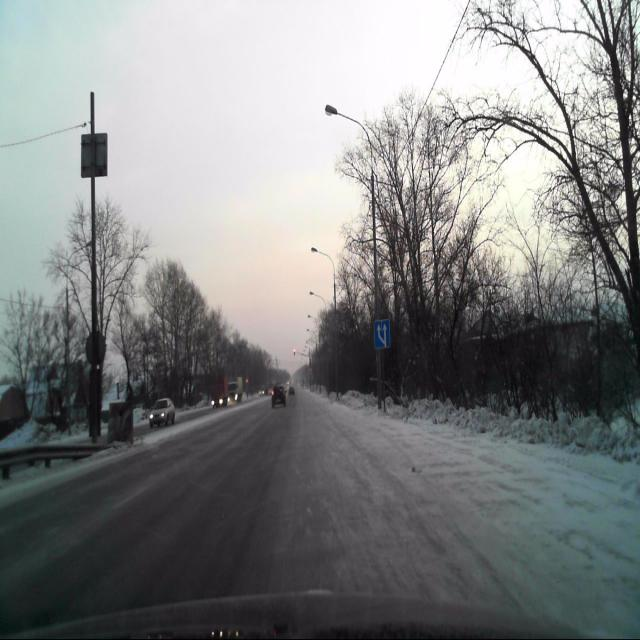road sign: (374, 319, 390, 351)
